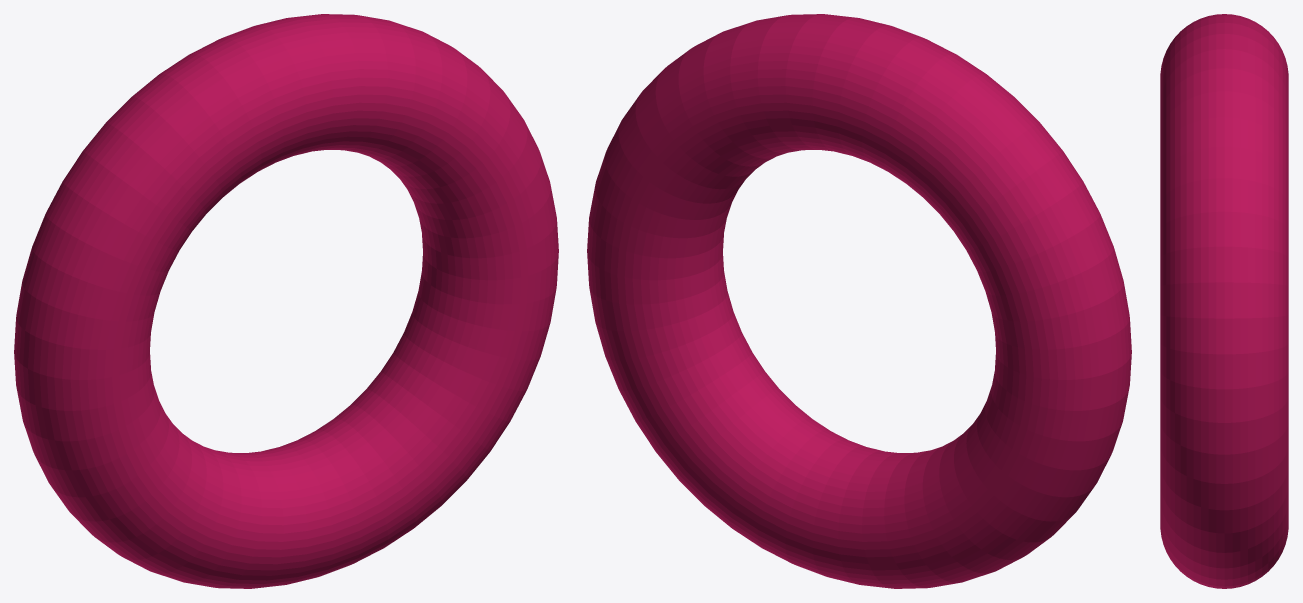
3 renders of one model, left to right at view 1: azimuth 30°, elevation 25°; view 2: azimuth 150°, elevation 25°; view 3: azimuth 270°, elevation 25°, orthographic. The views are drawn at different scales.
Visible parts, largest first — view 1: world; view 2: world; view 3: world.
Part boxes in pixels (left/top/right/bottom): world: left=14, top=14, right=558, bottom=588; world: left=587, top=14, right=1131, bottom=588; world: left=1160, top=14, right=1288, bottom=588.
Bounding box in the file's own units: 35.2 × 35.13 × 7.85.
